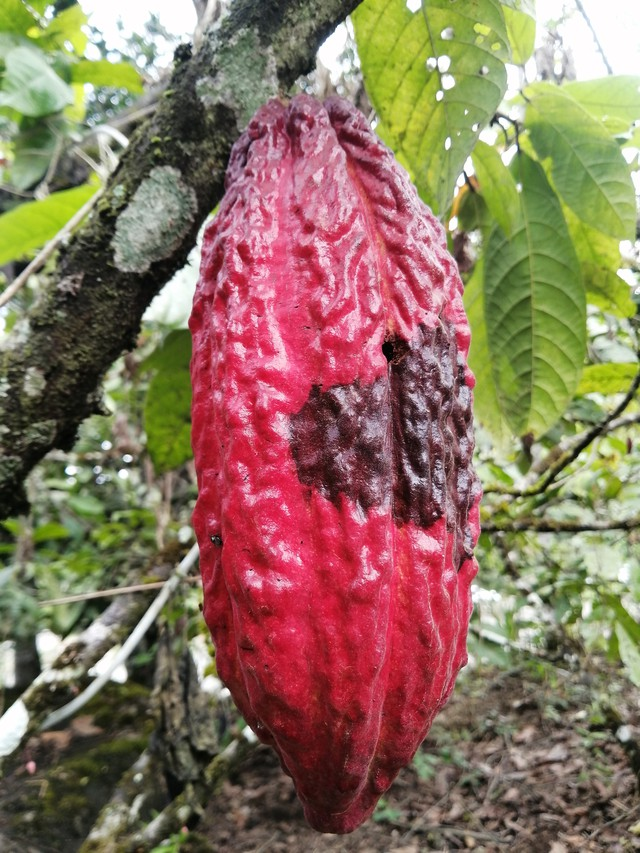carmenta foraseminis: (187, 78, 480, 843)
